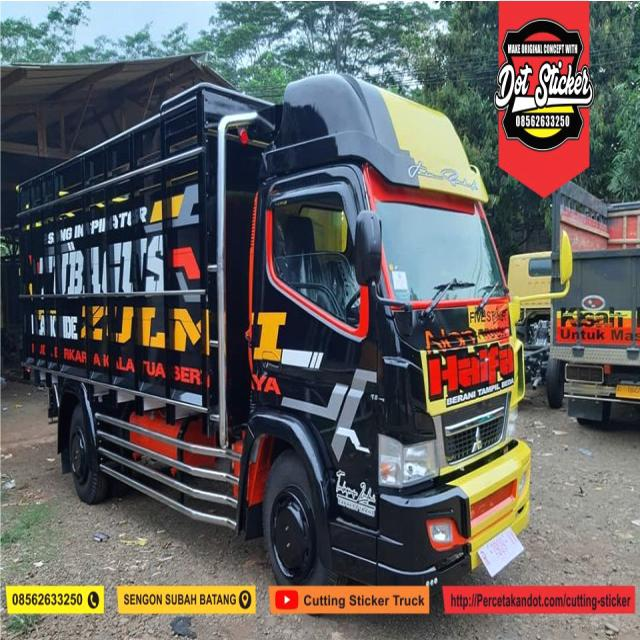truck: (20, 82, 569, 590)
